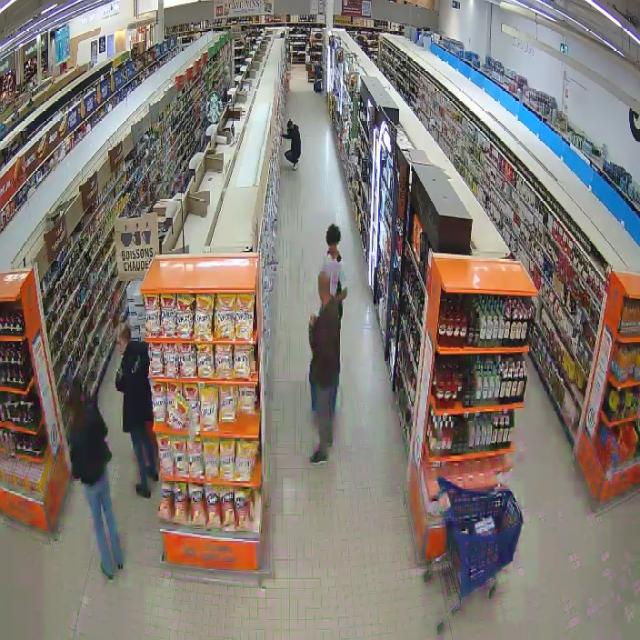hands: (336, 289, 347, 303), (116, 363, 123, 384), (310, 315, 317, 327), (281, 134, 284, 137)
person: (70, 378, 123, 578), (116, 325, 158, 497), (310, 272, 340, 464), (321, 225, 347, 319), (282, 119, 300, 168)
